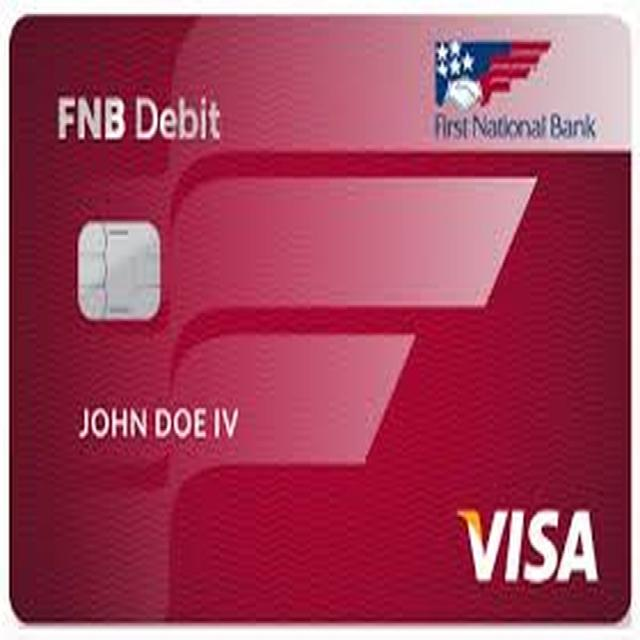card: (2, 8, 631, 635)
